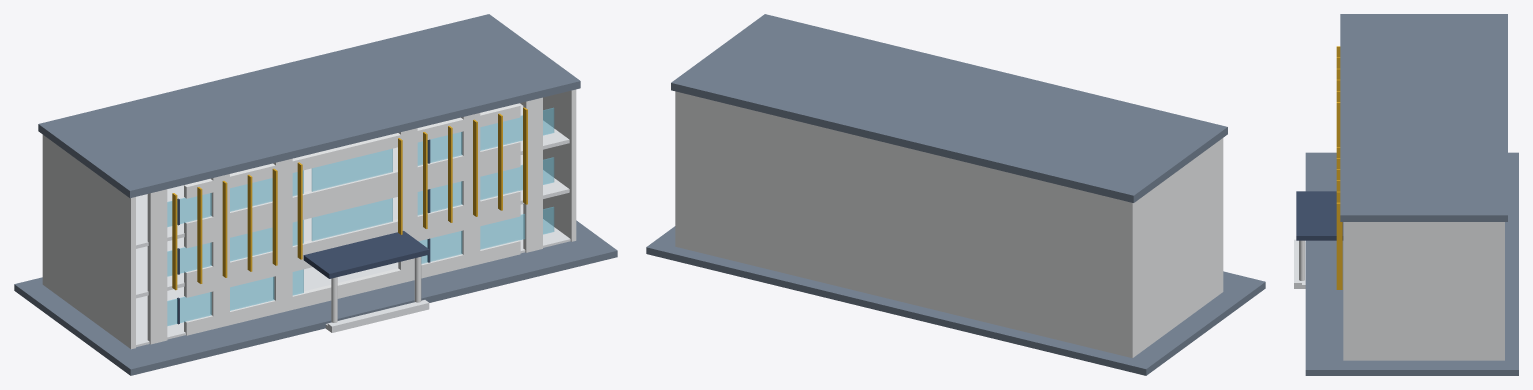
The model's file is gedung_kuliah_modern.glb.
The picture shows the model from 3 angles, left to right: view 1: azimuth 30°, elevation 25°; view 2: azimuth 150°, elevation 25°; view 3: azimuth 270°, elevation 25°; orthographic projection. The views are drawn at different scales.
Visible parts, largest first — view 1: Gedung_Kuliah_Modern, Undakan_Stairs; view 2: Gedung_Kuliah_Modern; view 3: Gedung_Kuliah_Modern, Undakan_Stairs.
Part boxes in pixels (x1,y1,x2,y2): Gedung_Kuliah_Modern: (14, 14, 617, 375); Undakan_Stairs: (325, 300, 429, 332); Gedung_Kuliah_Modern: (646, 14, 1265, 375); Gedung_Kuliah_Modern: (1296, 14, 1518, 375); Undakan_Stairs: (1294, 239, 1305, 288).
Bounding box in the file's own units: 35 × 11.45 × 15.3.
